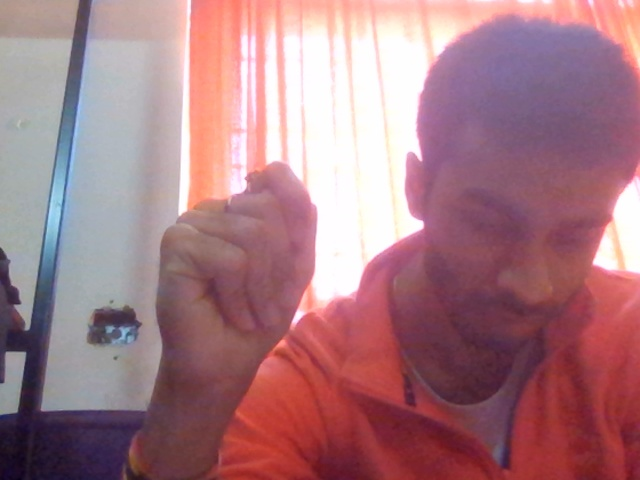T: (124, 147, 383, 457)
